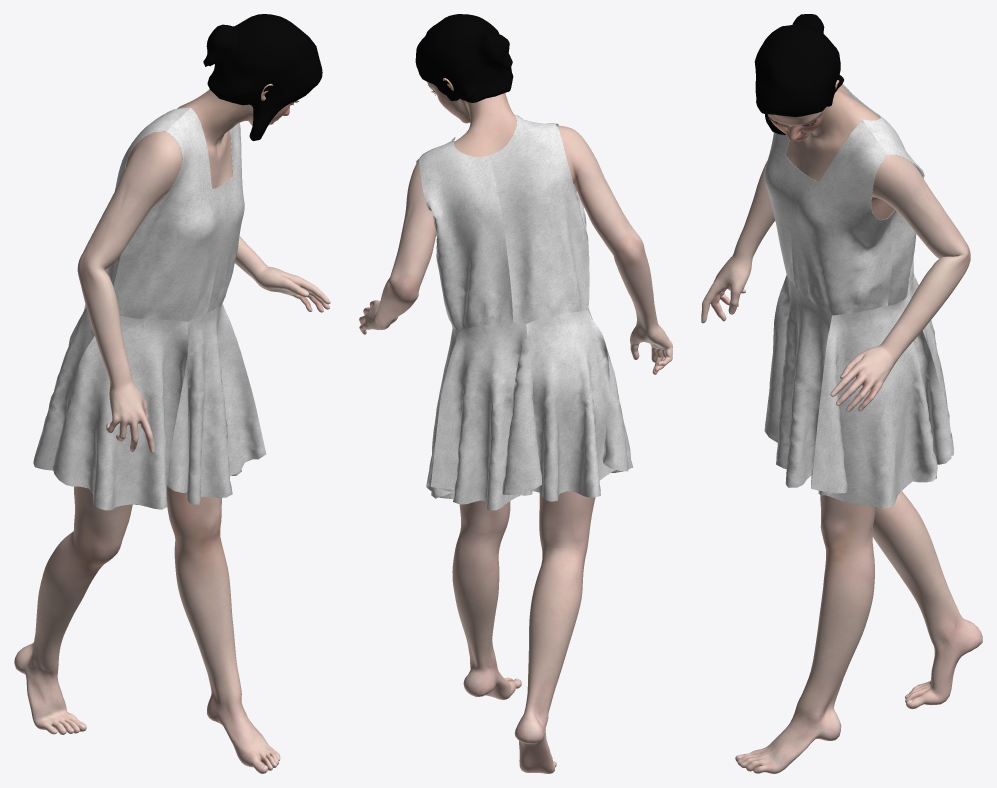
File: Dramatic.obj
3 views of the same model, side by side, from view 1: azimuth 30°, elevation 25°; view 2: azimuth 150°, elevation 25°; view 3: azimuth 270°, elevation 25° (orthographic). The views are drawn at different scales.
Size of the model in its own units: 687 by 1739 by 590.
